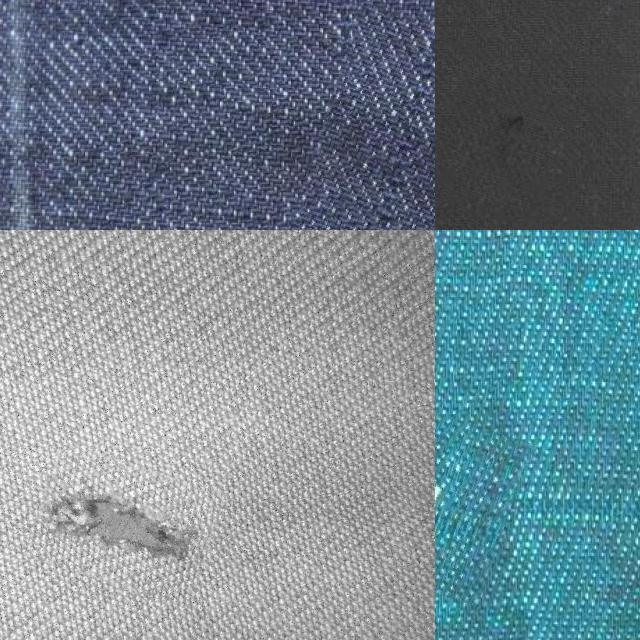other: (30, 452, 219, 597)
stains: (217, 4, 435, 230), (435, 77, 568, 225), (435, 394, 520, 593)
